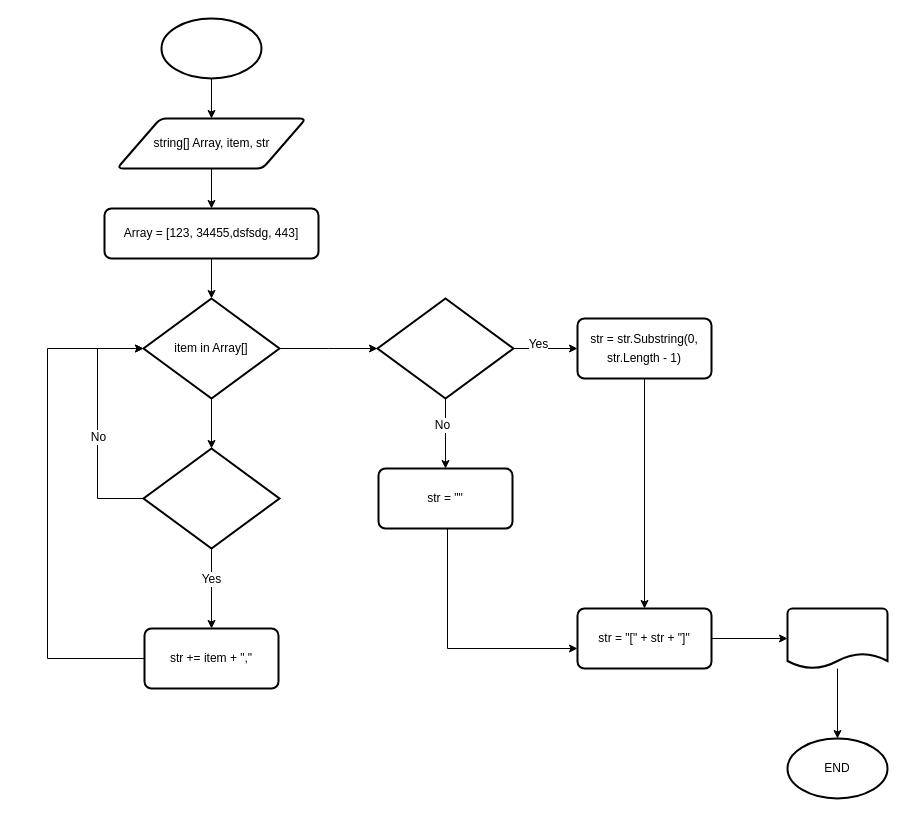
Image size: 905x816. Some labels were removed from this diagram. Each missing label, with the centre of its shape:
item.Lenght <= 3: pixel 211 498
print(str): pixel 837 638
START: pixel 211 48
str.Lenght > 1: pixel 445 348
